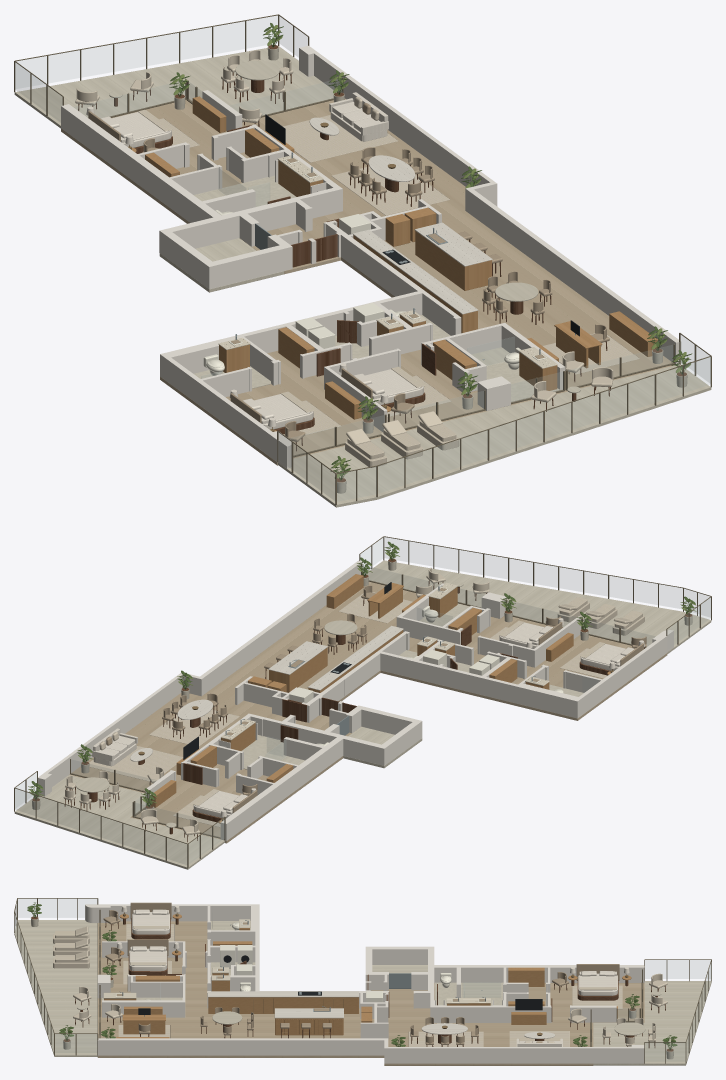
3 views of the same model, one above another, from view 1: azimuth 30°, elevation 25°; view 2: azimuth 150°, elevation 25°; view 3: azimuth 270°, elevation 25° (orthographic). The views are drawn at different scales.
Size of the model in its own units: 16.06 by 1.42 by 32.86.
Materials: 18 (9 with a texture image).
